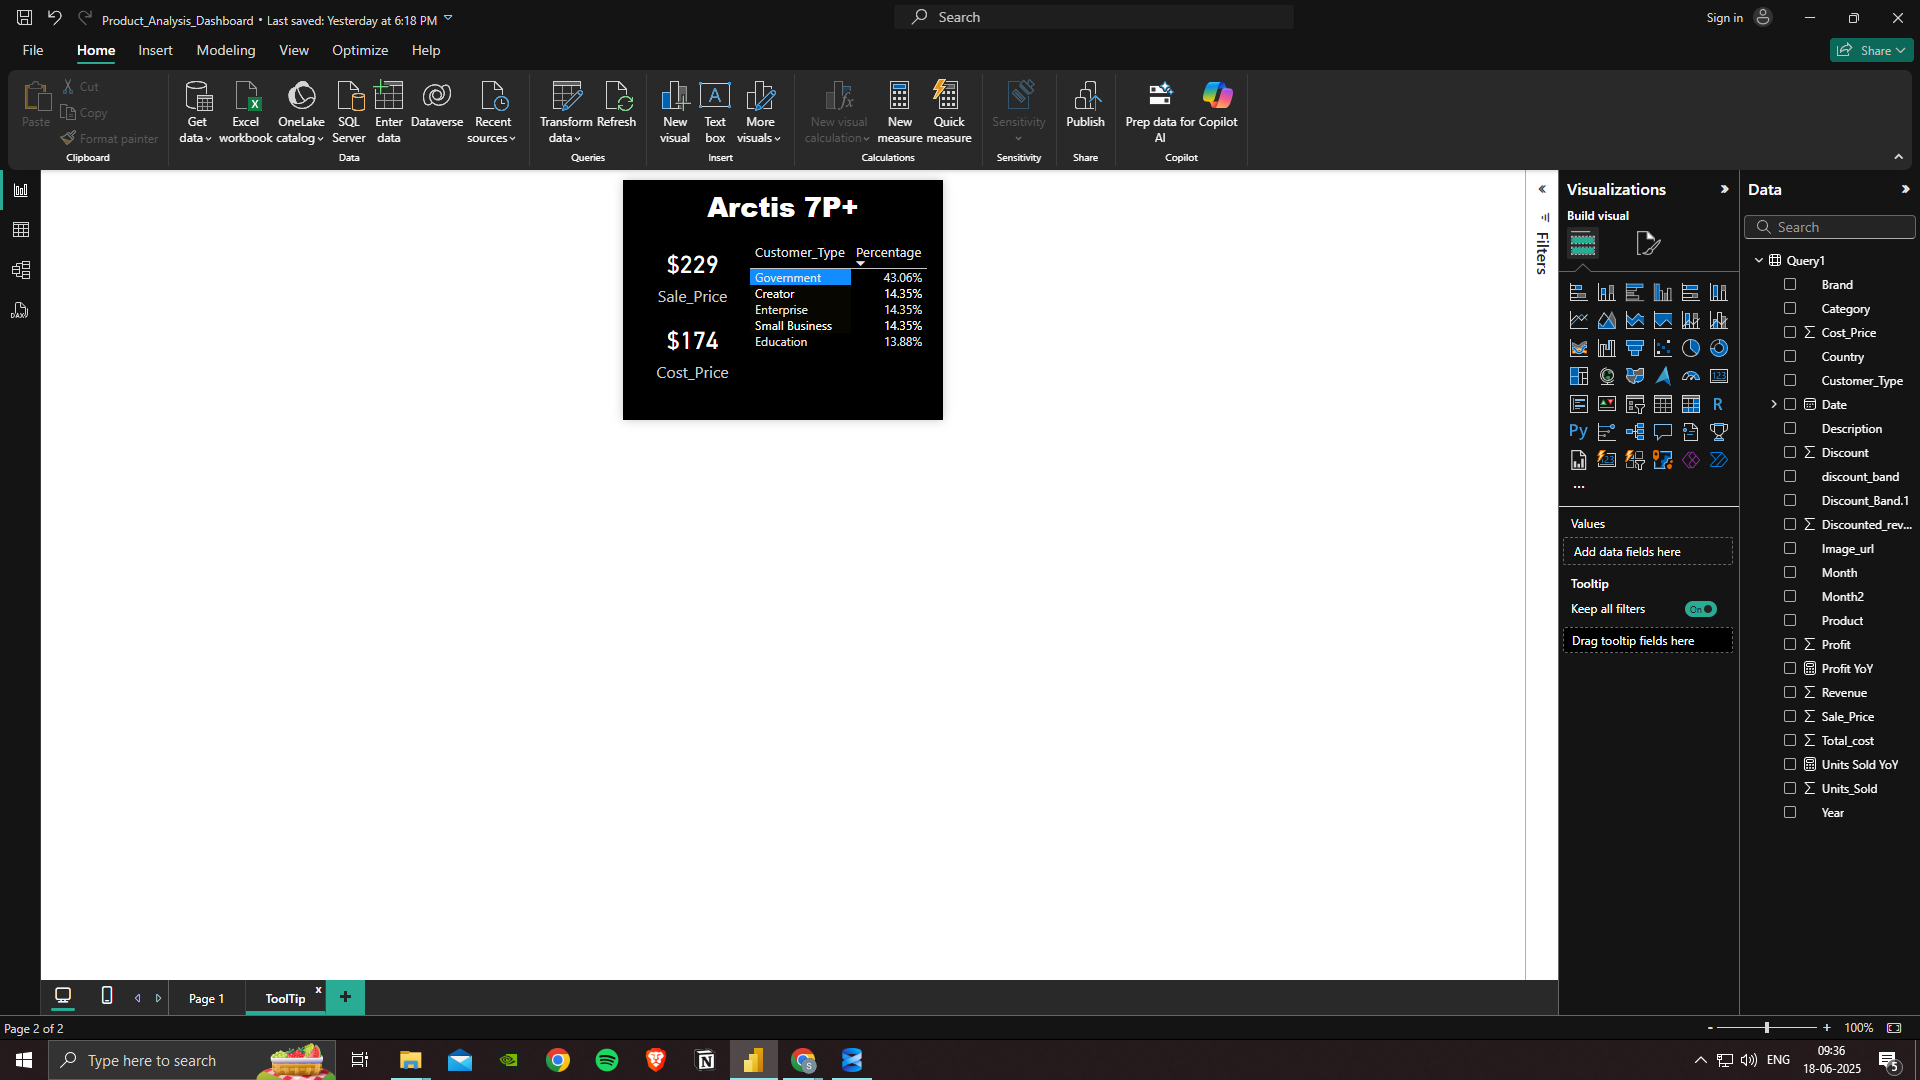

The page's visual inventory and layout, read from the dashboard file:
{"tool":"powerbi","page":{"name":"ToolTip","canvas":[320,240],"ordinal":1},"visuals":[{"type":"card","fields":{"Values":["Max(Query1.Sale_Price)"]},"box":[18,56,103,76],"z":0},{"type":"card","fields":{"Values":["Max(Query1.Cost_Price)"]},"box":[18,132,103,76],"z":1000},{"type":"card","fields":{"Values":["Min(Query1.Product)"]},"box":[0,0,320,56],"z":2000},{"type":"tableEx","fields":{"Values":["Query1.Customer_Type","CountNonNull(Query1.Customer_Type)"]},"box":[121,58,189,150],"z":3000}]}

Visuals, with their boxes on the page's 320x240 design canvas (x1, y1, x2, y2). These are canvas units, not pixel positions in the 1920x1080 screenshot, which may show the page scaled, cropped or inside an application window:
card - Max(Query1.Sale_Price): bbox=(18, 56, 121, 132)
card - Max(Query1.Cost_Price): bbox=(18, 132, 121, 208)
card - Min(Query1.Product): bbox=(0, 0, 320, 56)
tableEx - Query1.Customer_Type x CountNonNull(Query1.Customer_Type): bbox=(121, 58, 310, 208)
